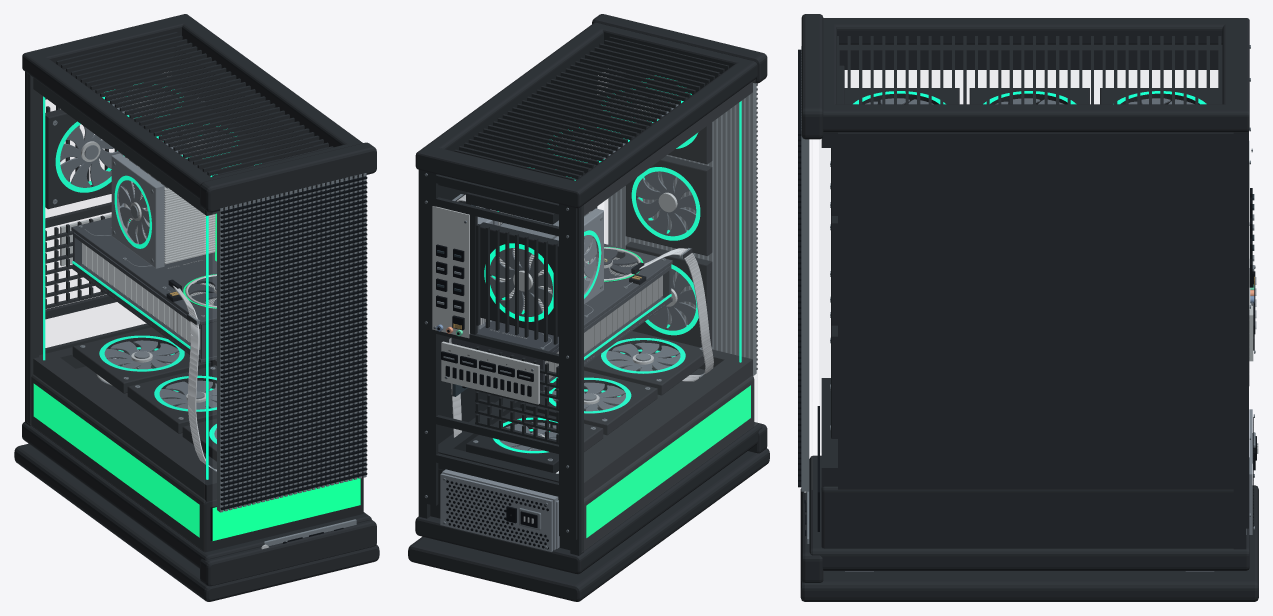
The model's file is showcase92-emerald.glb.
The picture shows the model from 3 angles, left to right: view 1: azimuth 30°, elevation 25°; view 2: azimuth 150°, elevation 25°; view 3: azimuth 270°, elevation 25°; orthographic projection. The views are drawn at different scales.
Visible parts, largest first — view 1: s83-surface-f2de5329-ae88-4497-ae3c-d8f47902e743, s83-surface-d02f8baf-1e2e-4867-ae7e-2b0008113d8a, s83-surface-350fd4b5-4547-4a6c-897b-315972e0ed8d, s83-fan-12, s83-fan-9, s83-fan-5, s83-fan-10, s83-fan-4; view 2: s83-surface-f2de5329-ae88-4497-ae3c-d8f47902e743, s83-surface-cd66ad28-6b48-41d0-be03-c71e7968fd17, s83-surface-d02f8baf-1e2e-4867-ae7e-2b0008113d8a, s83-surface-350fd4b5-4547-4a6c-897b-315972e0ed8d, s83-fan-14, s83-fan-12, s83-fan-11, s83-fan-13, s83-fan-10, s83-fan-4, s83-fan-5; view 3: s83-surface-f2de5329-ae88-4497-ae3c-d8f47902e743, s83-surface-350fd4b5-4547-4a6c-897b-315972e0ed8d.
Part boxes in pixels (x1,y1,x2,y2): s83-surface-f2de5329-ae88-4497-ae3c-d8f47902e743: (14,14,379,601); s83-surface-d02f8baf-1e2e-4867-ae7e-2b0008113d8a: (33,213,360,540); s83-surface-350fd4b5-4547-4a6c-897b-315972e0ed8d: (43,83,261,479); s83-fan-12: (60,125,123,187); s83-fan-9: (104,340,179,371); s83-fan-5: (118,180,151,244); s83-fan-10: (159,380,216,411); s83-fan-4: (185,276,216,308); s83-surface-f2de5329-ae88-4497-ae3c-d8f47902e743: (408,14,769,601); s83-surface-cd66ad28-6b48-41d0-be03-c71e7968fd17: (604,83,755,375); s83-surface-d02f8baf-1e2e-4867-ae7e-2b0008113d8a: (586,247,750,537); s83-surface-350fd4b5-4547-4a6c-897b-315972e0ed8d: (484,75,741,453); s83-fan-14: (636,171,696,236); s83-fan-12: (490,248,552,316); s83-fan-11: (606,342,680,373); s83-fan-13: (649,268,696,330); s83-fan-10: (552,382,625,413); s83-fan-4: (604,248,638,282); s83-fan-5: (584,235,596,292); s83-surface-f2de5329-ae88-4497-ae3c-d8f47902e743: (798,14,1258,601); s83-surface-350fd4b5-4547-4a6c-897b-315972e0ed8d: (853,91,1206,104).
Size of the model in its own units: 1.32 by 3 by 2.54.
22 materials, 21 textured.
